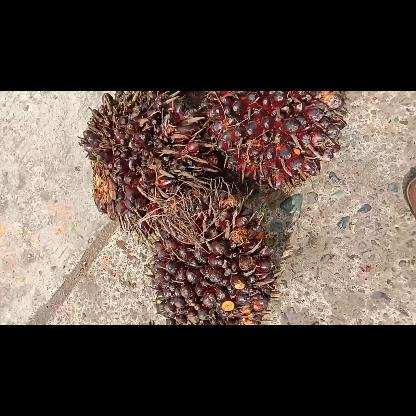Kurang masak: (76, 90, 218, 238), (146, 190, 280, 324), (200, 91, 350, 190)
